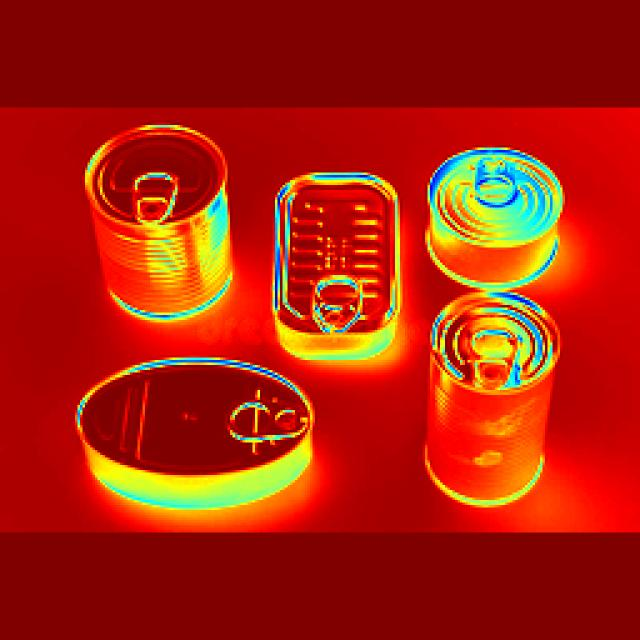Aluminium Food Cans: (71, 361, 335, 519), (80, 119, 236, 315), (424, 290, 556, 516), (274, 162, 410, 366), (426, 148, 563, 272)
